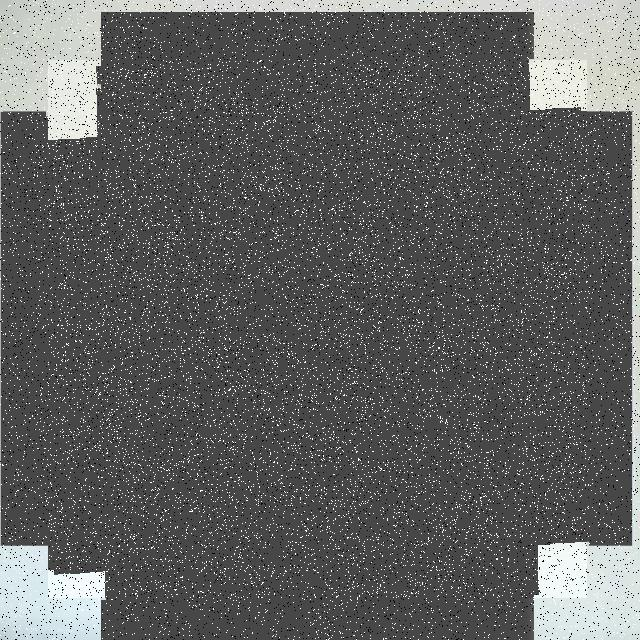dua puluh ribu rupiah: (48, 60, 587, 598)
